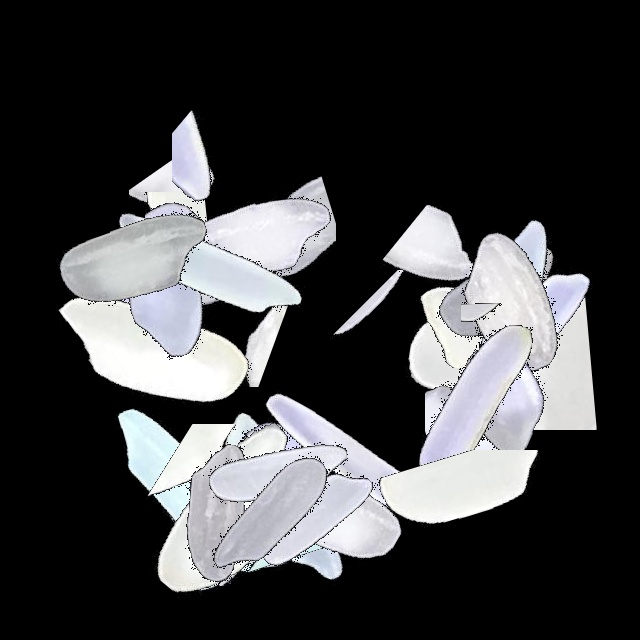Broken: (169, 361, 322, 611), (425, 294, 578, 544), (184, 113, 336, 363), (390, 280, 640, 430), (358, 450, 608, 593), (334, 205, 584, 341), (358, 232, 608, 368), (138, 430, 388, 564), (145, 119, 275, 369), (317, 270, 567, 396), (131, 462, 381, 586), (231, 369, 352, 619), (25, 192, 275, 311), (183, 390, 301, 640), (172, 27, 284, 277), (94, 276, 344, 387), (129, 93, 238, 343), (95, 424, 345, 524), (292, 270, 542, 364), (71, 508, 321, 601), (229, 390, 314, 640), (461, 219, 545, 469)
Full: (161, 369, 411, 619), (90, 390, 340, 640), (20, 183, 270, 433), (126, 390, 376, 640), (68, 366, 318, 616), (13, 177, 263, 427), (151, 390, 401, 640), (111, 133, 361, 383), (102, 390, 352, 640), (381, 167, 631, 417), (101, 386, 351, 636), (390, 191, 640, 441), (106, 390, 356, 640), (133, 107, 383, 357), (92, 388, 342, 638), (227, 334, 477, 584), (29, 218, 279, 468), (207, 388, 457, 638), (390, 222, 640, 472), (154, 349, 404, 599), (390, 179, 640, 429), (374, 271, 624, 521), (43, 173, 293, 423), (187, 389, 437, 639), (146, 390, 396, 640), (351, 288, 601, 538), (84, 143, 334, 393), (13, 136, 263, 386)
